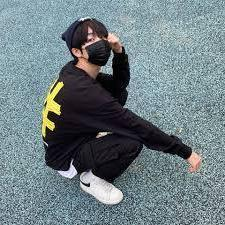sweater: (40, 48, 193, 171)
trousers: (69, 130, 144, 187)
